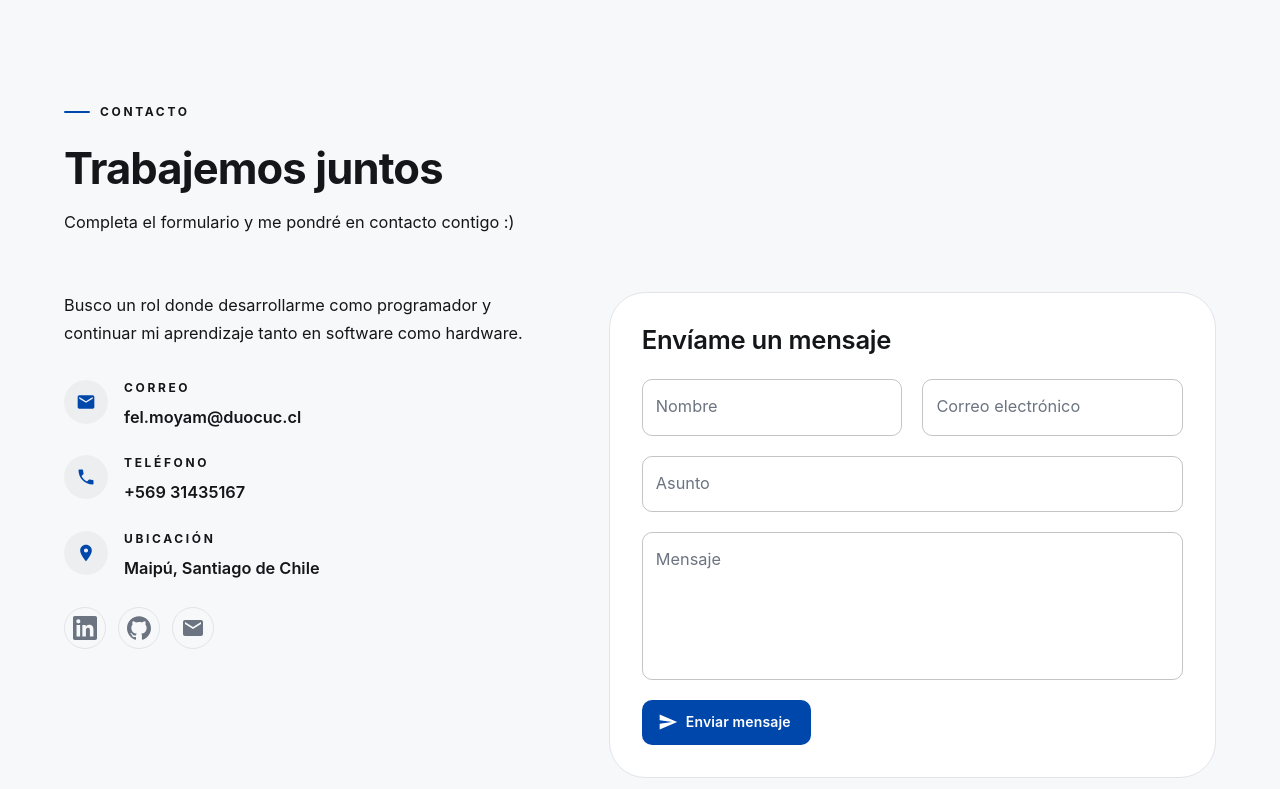
SeccionContacto - Organismo › muestra errores de validación al enviar formulario vacío
Click the button "Enviar mensaje" at (726, 722), box [642,700,811,745]
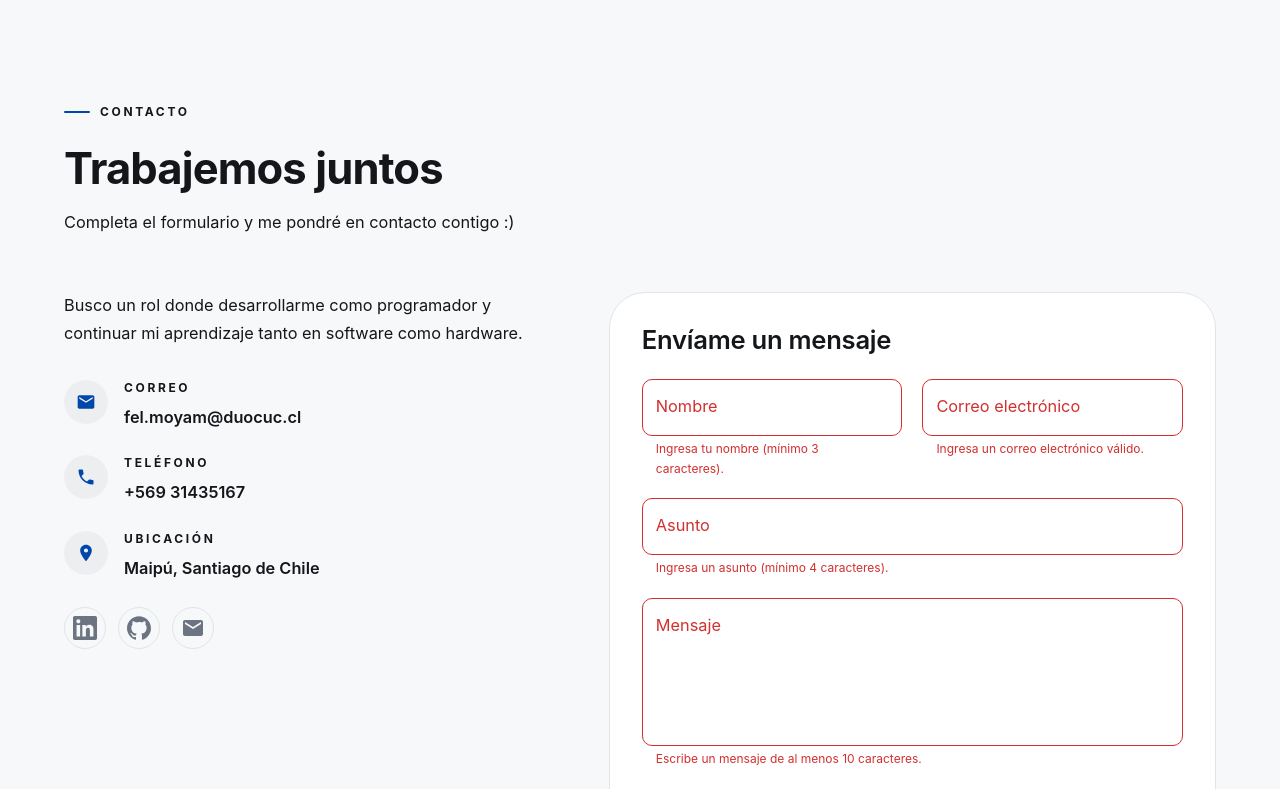
Now the text "Ingresa tu nombre (mínimo 3 caracteres)." is shown, box [656,441,819,476]
Now the text "Ingresa un correo electrónico válido." is shown, box [936,439,1169,459]
Now the text "Ingresa un asunto (mínimo 4 caracteres)." is shown, box [656,560,889,575]
